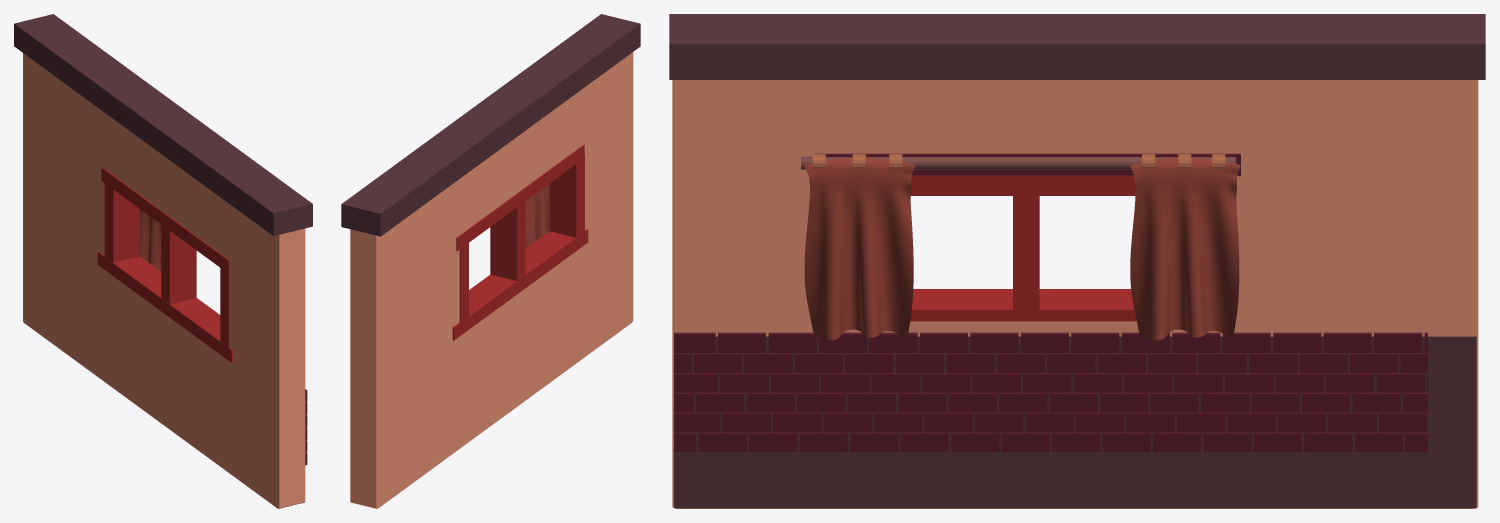
Rendered from parede-esquerda 1.fbx.
3 views of the same model, side by side, from view 1: azimuth 30°, elevation 25°; view 2: azimuth 150°, elevation 25°; view 3: azimuth 270°, elevation 25° (orthographic). The views are drawn at different scales.
Parts seen in each view (by area): view 1: Cube.105; view 2: Cube.105; view 3: Cube.105.
Boxes of the visible parts, left/top/right/bottom form: Cube.105: left=14, top=14, right=312, bottom=508; Cube.105: left=341, top=14, right=640, bottom=508; Cube.105: left=669, top=14, right=1485, bottom=508.
Size of the model in its own units: 0.6925 by 4.13 by 6.5.
